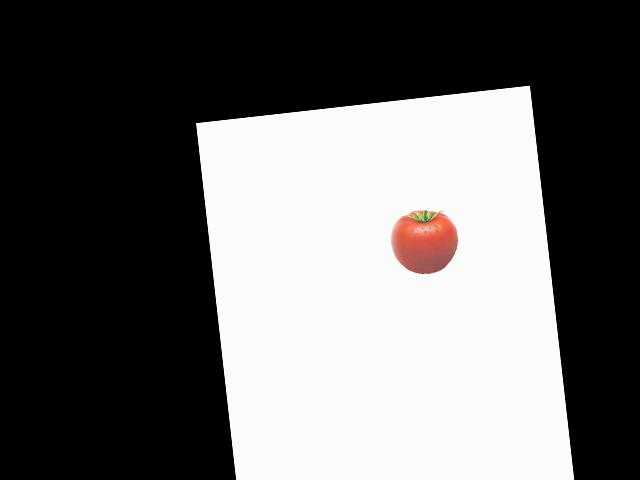tomato: (395, 206, 461, 276)
